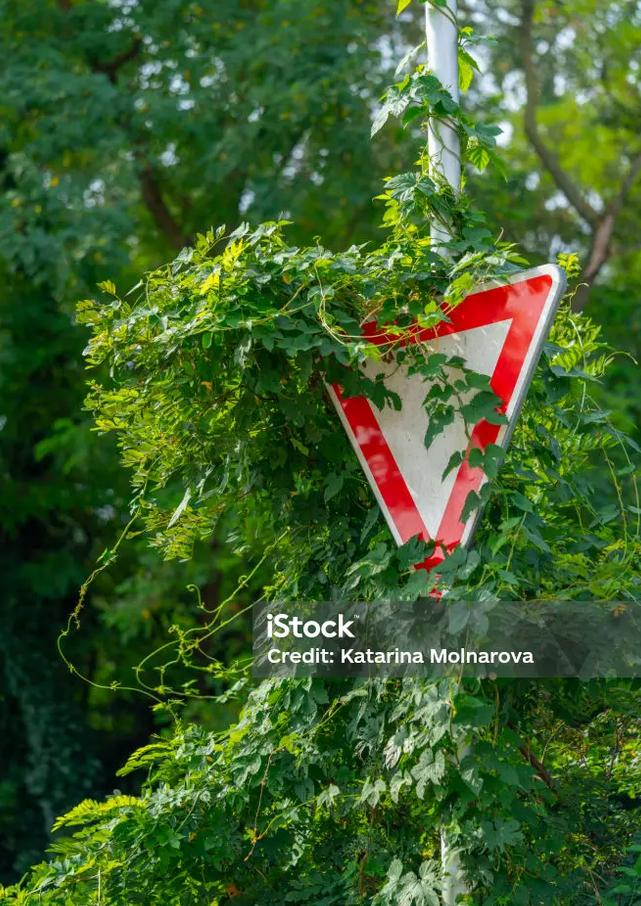obstructed_road_sign: (310, 262, 564, 605)
